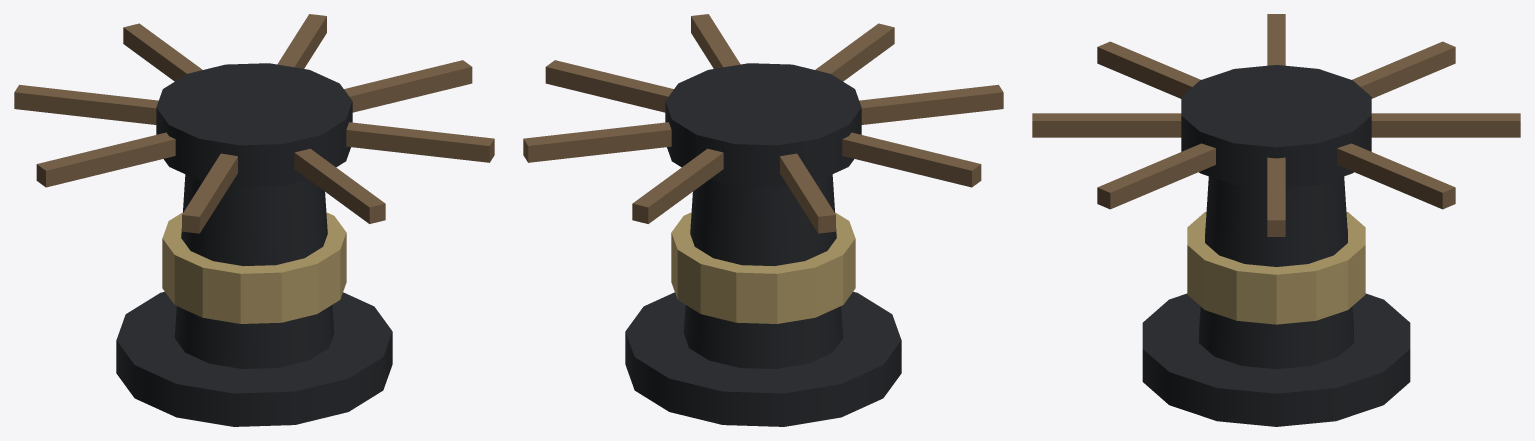
The model's file is hb_capstan.glb.
The picture shows the model from 3 angles, left to right: view 1: azimuth 30°, elevation 25°; view 2: azimuth 150°, elevation 25°; view 3: azimuth 270°, elevation 25°; orthographic projection.
Visible parts, largest first — view 1: hb_capstan; view 2: hb_capstan; view 3: hb_capstan.
Boxes of the visible parts, x1,y1,x2,y2 form: hb_capstan: (14, 14, 494, 426); hb_capstan: (523, 14, 1003, 426); hb_capstan: (1032, 14, 1520, 426).
Size of the model in its own units: 1.6 by 0.95 by 1.6.
